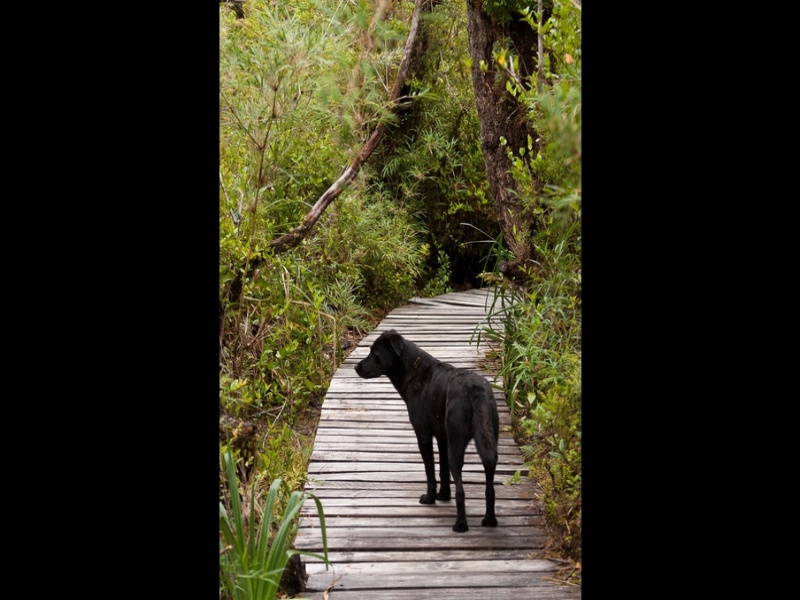dog: (353, 330, 503, 537)
